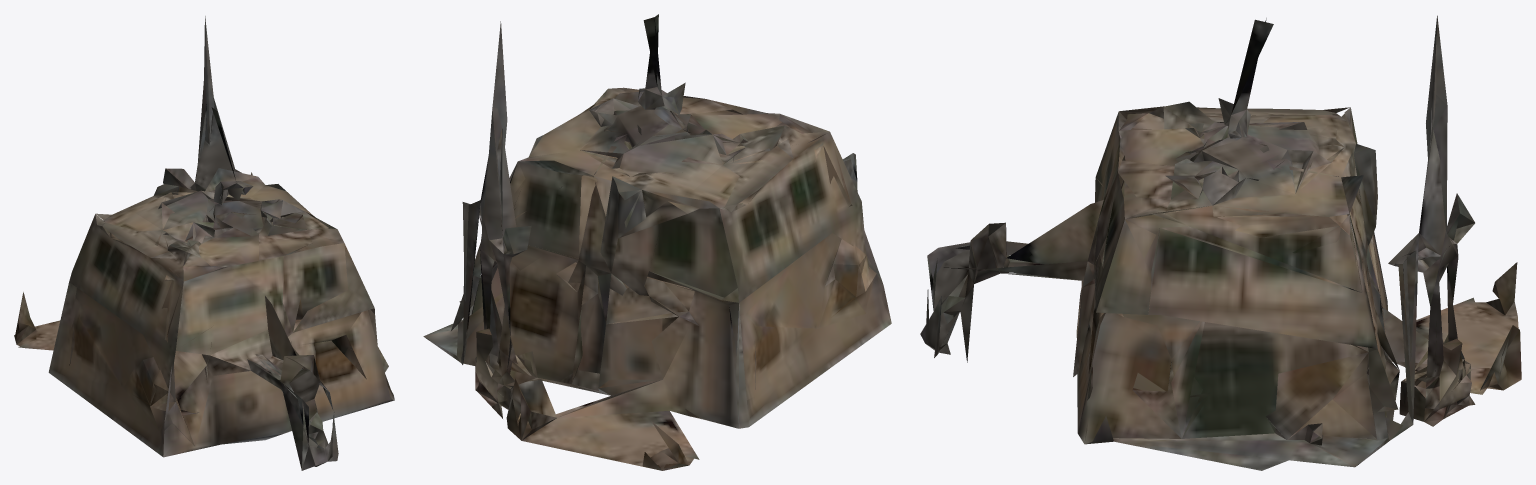
File: outpost_1739388569_lod0.glb
3 renders of one model, left to right at view 1: azimuth 30°, elevation 25°; view 2: azimuth 150°, elevation 25°; view 3: azimuth 270°, elevation 25°, orthographic. The views are drawn at different scales.
Bounding box in the file's own units: 6.99 × 7.5 × 9.98.
1 material, 1 textured.
